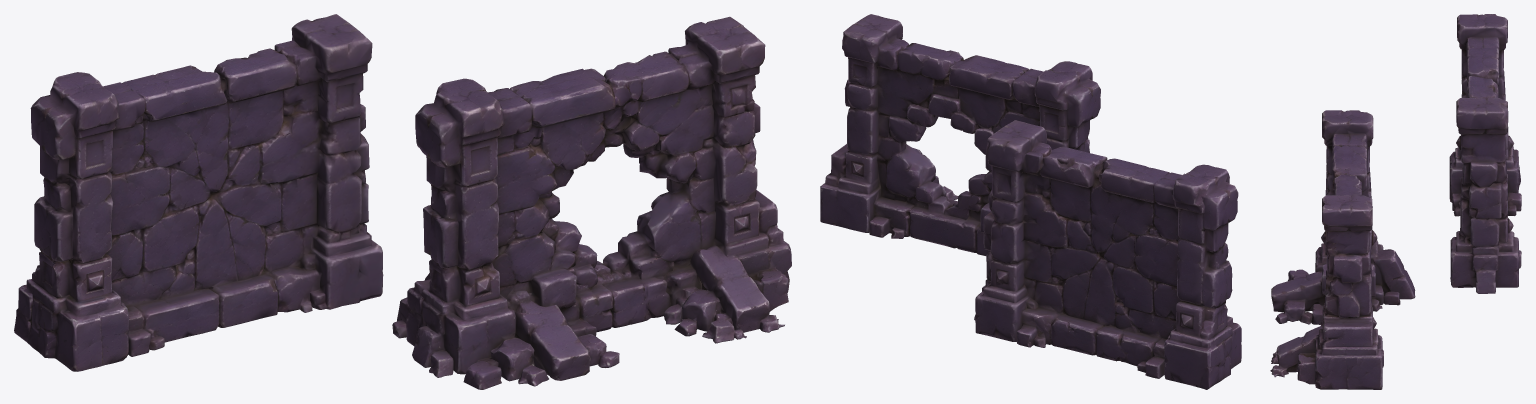
The model's file is cracked_wall_and_cracked_wall_broken(2models).glb.
The picture shows the model from 3 angles, left to right: view 1: azimuth 30°, elevation 25°; view 2: azimuth 150°, elevation 25°; view 3: azimuth 270°, elevation 25°; orthographic projection. The views are drawn at different scales.
Visible parts, largest first — view 1: tripo_node_ab928345-bede-4b4d-9871-37da102585ee; view 2: tripo_node_ab928345-bede-4b4d-9871-37da102585ee; view 3: tripo_node_ab928345-bede-4b4d-9871-37da102585ee.
Boxes of the visible parts, box(x1,y1,x2,y2) form: tripo_node_ab928345-bede-4b4d-9871-37da102585ee: box(14, 14, 791, 389); tripo_node_ab928345-bede-4b4d-9871-37da102585ee: box(820, 14, 1241, 389); tripo_node_ab928345-bede-4b4d-9871-37da102585ee: box(1270, 14, 1521, 389).
Bounding box in the file's own units: 1 × 0.3967 × 0.5124.
1 material, 1 textured.
